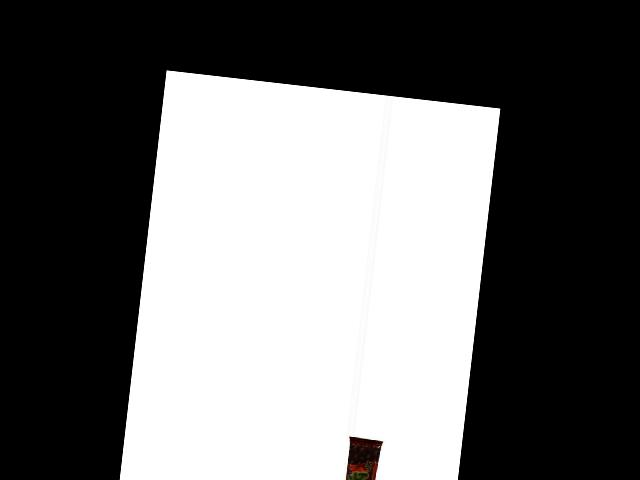chocolate: (341, 436, 381, 480)
